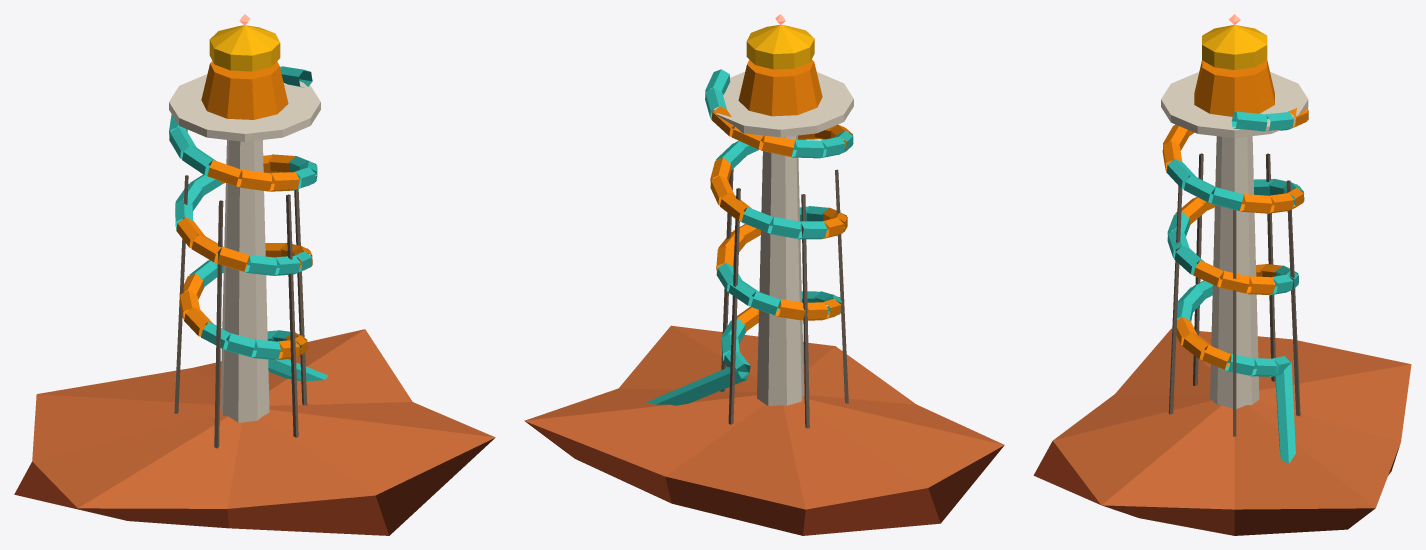
Rendered from W5_Far_SlideTower.fbx.
3 renders of one model, left to right at view 1: azimuth 30°, elevation 25°; view 2: azimuth 150°, elevation 25°; view 3: azimuth 270°, elevation 25°, orthographic. The views are drawn at different scales.
Visible parts, largest first — view 1: W5_Far_SlideTower; view 2: W5_Far_SlideTower; view 3: W5_Far_SlideTower.
Boxes of the visible parts, x1,y1,x2,y2 form: W5_Far_SlideTower: [14, 14, 495, 535]; W5_Far_SlideTower: [524, 14, 1004, 535]; W5_Far_SlideTower: [1033, 14, 1411, 535].
Bounding box in the file's own units: 155 × 172 × 133.
